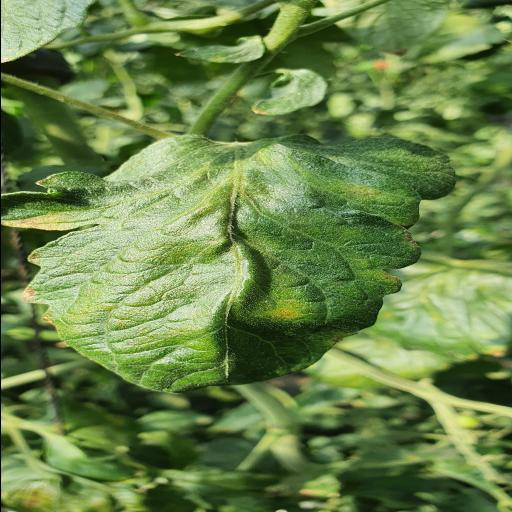Leaf Mold: (0, 132, 459, 396)
